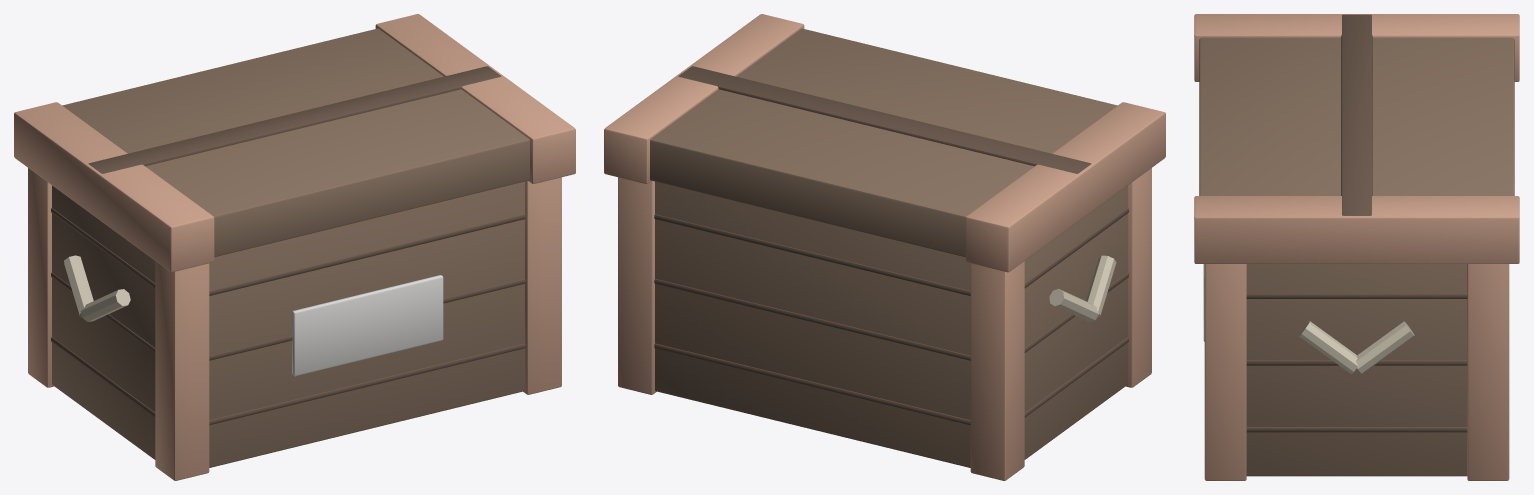
Rendered from crate_bronze.gltf.
The picture shows the model from 3 angles, left to right: view 1: azimuth 30°, elevation 25°; view 2: azimuth 150°, elevation 25°; view 3: azimuth 270°, elevation 25°; orthographic projection. The views are drawn at different scales.
Visible parts, largest first — view 1: Body, Lid, Glow; view 2: Body, Lid; view 3: Lid, Body.
Part boxes in pixels (bbox=[...]): Body: bbox=[28, 168, 561, 480]; Lid: bbox=[14, 14, 575, 272]; Glow: bbox=[292, 275, 443, 376]; Body: bbox=[618, 168, 1151, 480]; Lid: bbox=[604, 14, 1165, 272]; Lid: bbox=[1194, 14, 1519, 263]; Body: bbox=[1204, 264, 1509, 480].
Bounding box in the file's own units: 0.9727 × 0.566 × 0.62.
